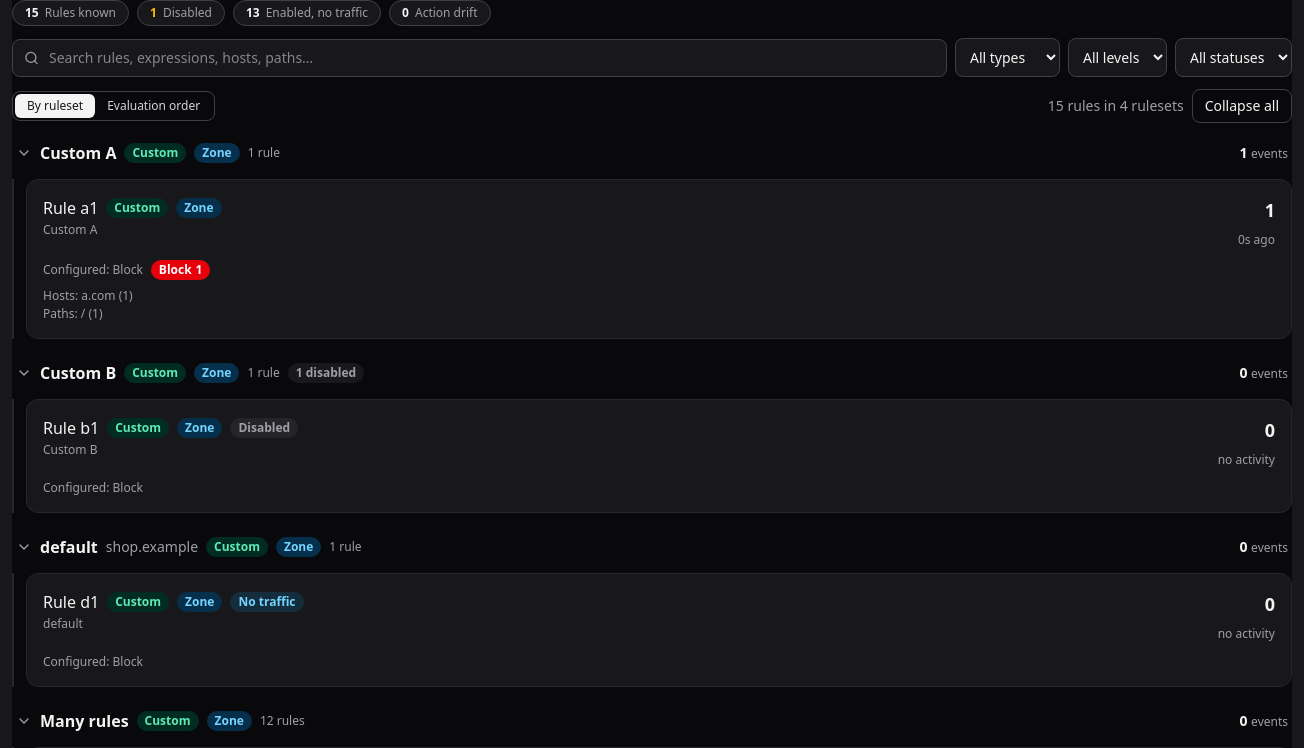
Test case: RulesReview grouped by ruleset › collapses a group from its header and says so to assistive tech
Click the button "Custom A Custom Zone 1 rule 1 events" at (78, 153), box x1=12 y1=135 x2=1292 y2=171
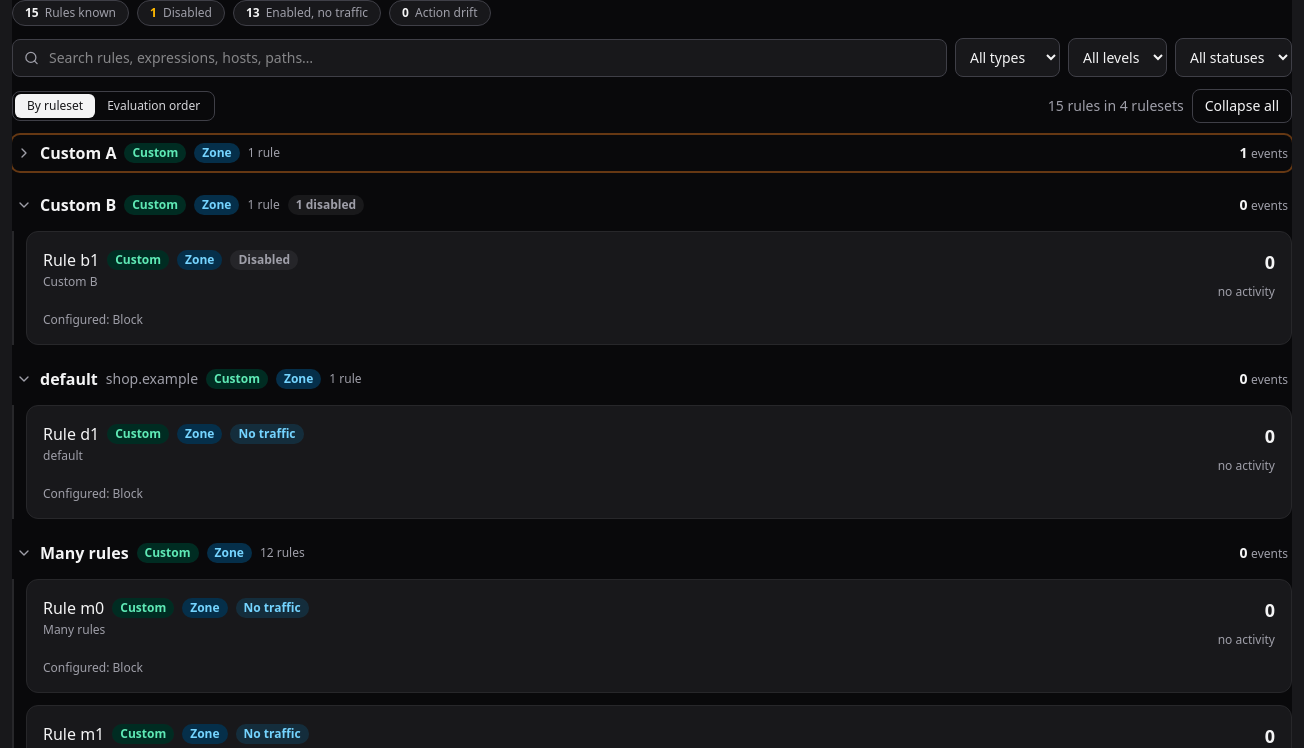
Check: the button "Custom A Custom Zone 1 rule 1 events" is collapsed, box x1=12 y1=135 x2=1292 y2=171
Check: the button "Rule a1" is gone
